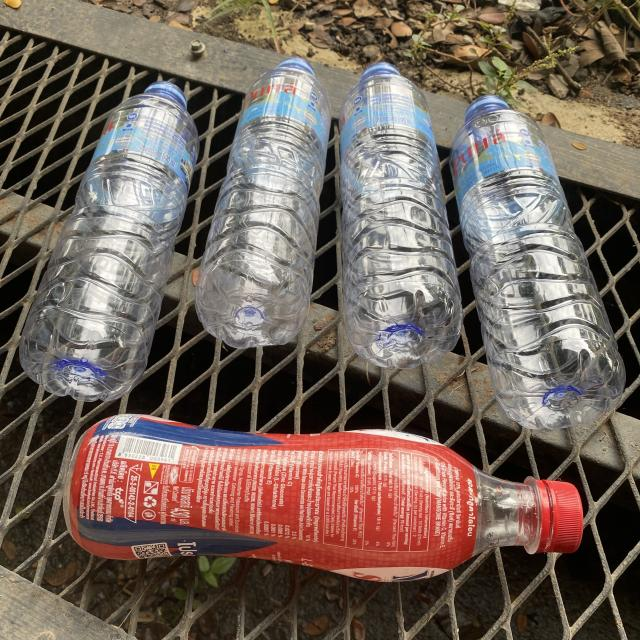plastik: (64, 414, 582, 582), (450, 95, 625, 430), (19, 81, 199, 401), (195, 58, 331, 349), (340, 62, 462, 369)
